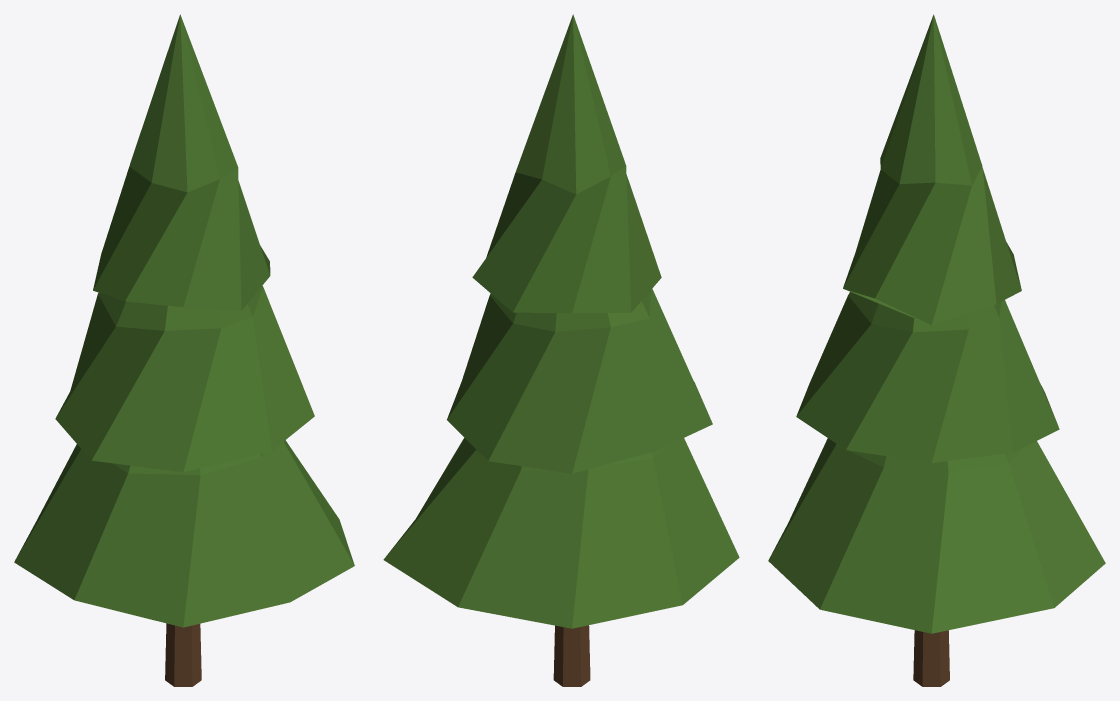
The model's file is tree_cone_a.glb.
The picture shows the model from 3 angles, left to right: view 1: azimuth 30°, elevation 25°; view 2: azimuth 150°, elevation 25°; view 3: azimuth 270°, elevation 25°; orthographic projection.
Parts seen in each view (by area): view 1: TreeConeA; view 2: TreeConeA; view 3: TreeConeA.
Part boxes in pixels (x1,y1,x2,y2): TreeConeA: (14, 14, 354, 686); TreeConeA: (383, 14, 739, 686); TreeConeA: (768, 14, 1105, 686).
Size of what is drawn, in the model's own units: 2.98 by 6.4 by 2.94.
